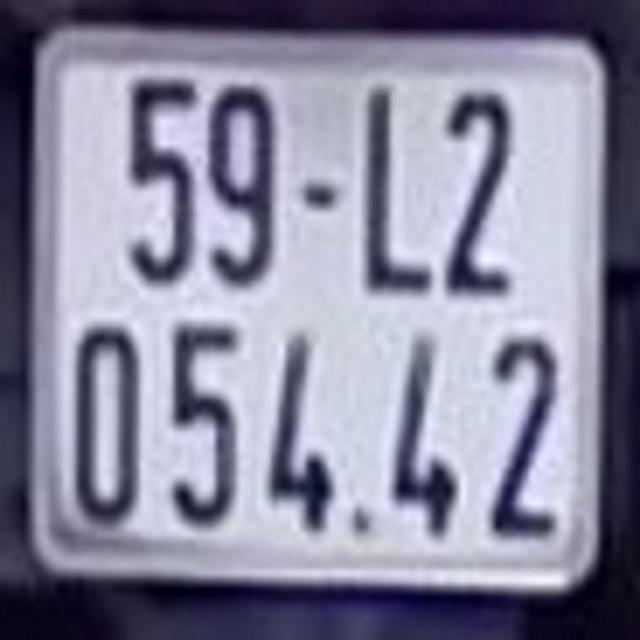0: (66, 306, 146, 520)
2: (435, 66, 512, 303), (488, 316, 567, 540)
4: (384, 318, 462, 548), (267, 299, 335, 544)
5: (115, 48, 199, 298), (165, 299, 240, 527)
9: (208, 35, 277, 303)
L: (351, 65, 433, 305)
